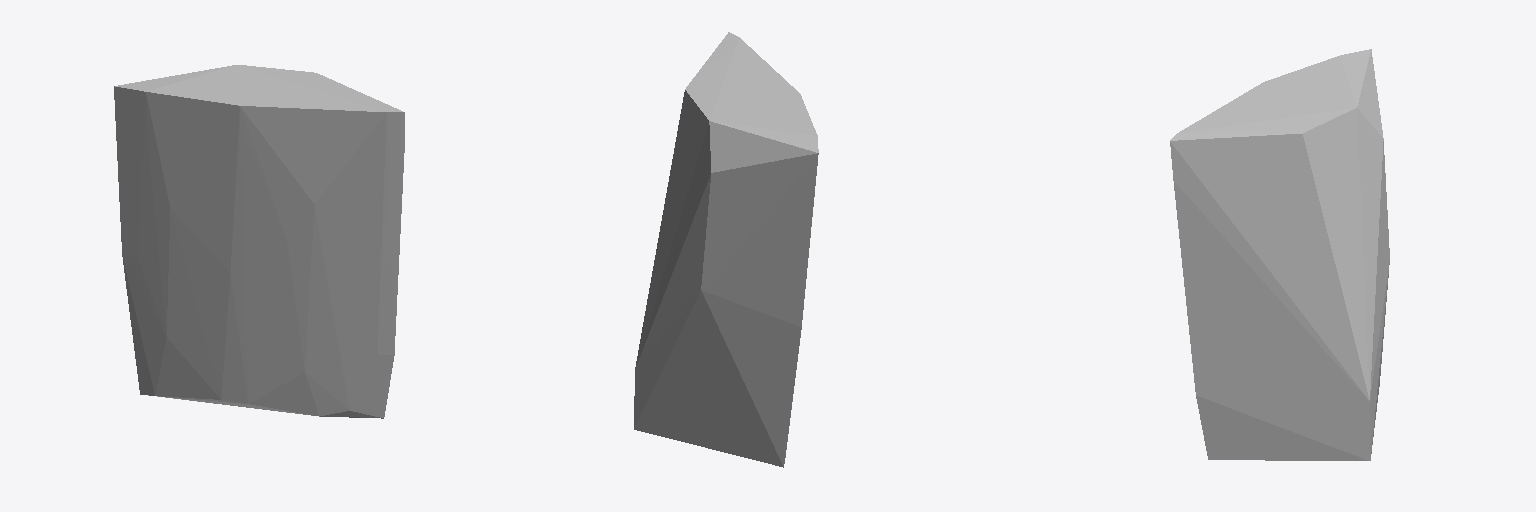
Rendered from trash_bin_collision_41.obj.
The picture shows the model from 3 angles: view 1: azimuth 30°, elevation 25°; view 2: azimuth 150°, elevation 25°; view 3: azimuth 270°, elevation 25°; orthographic projection.
Size of the model in its own units: 0.0366 by 0.0588 by 0.0362.